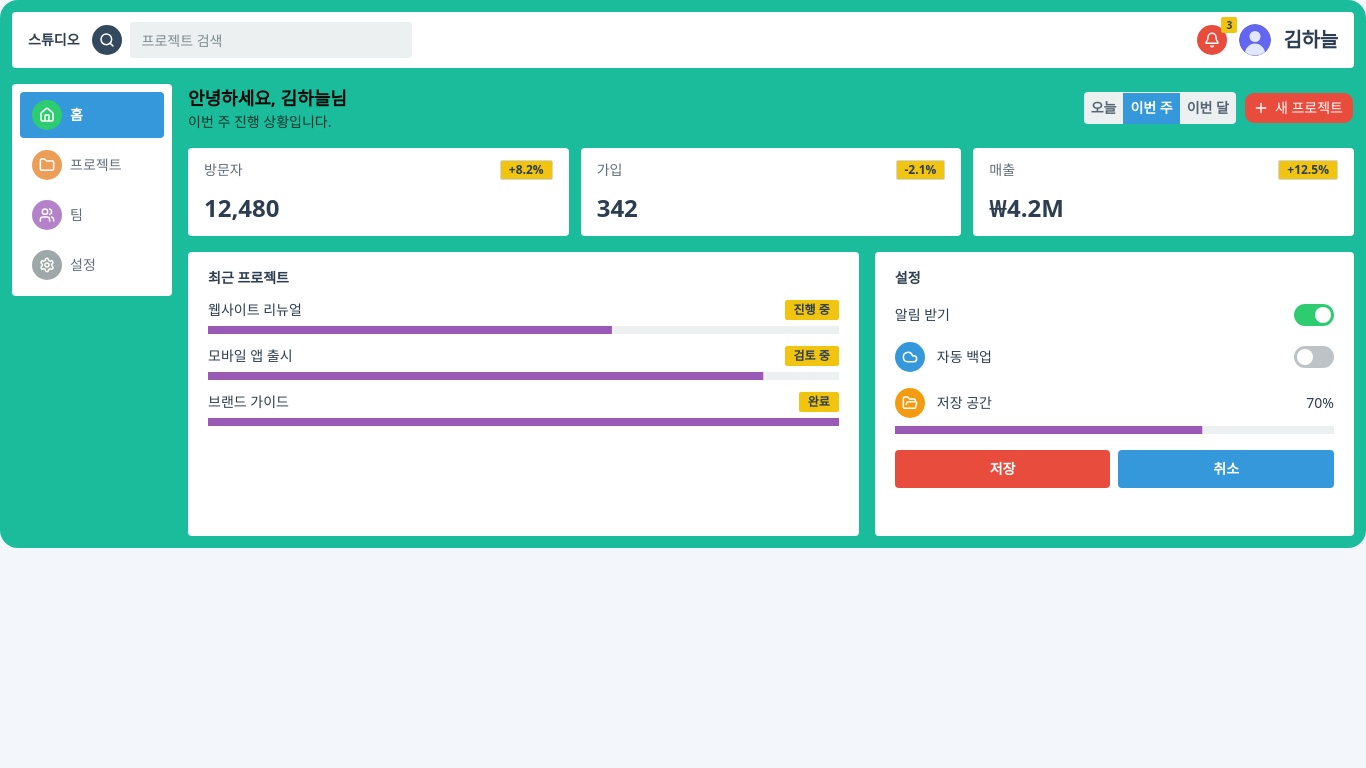
Test case: things to try on the dashboard (D-019) › adds a project from the new-project dialog
Click the button "새 프로젝트" at {"x": 1299, "y": 108}, box [1244,92,1354,124]
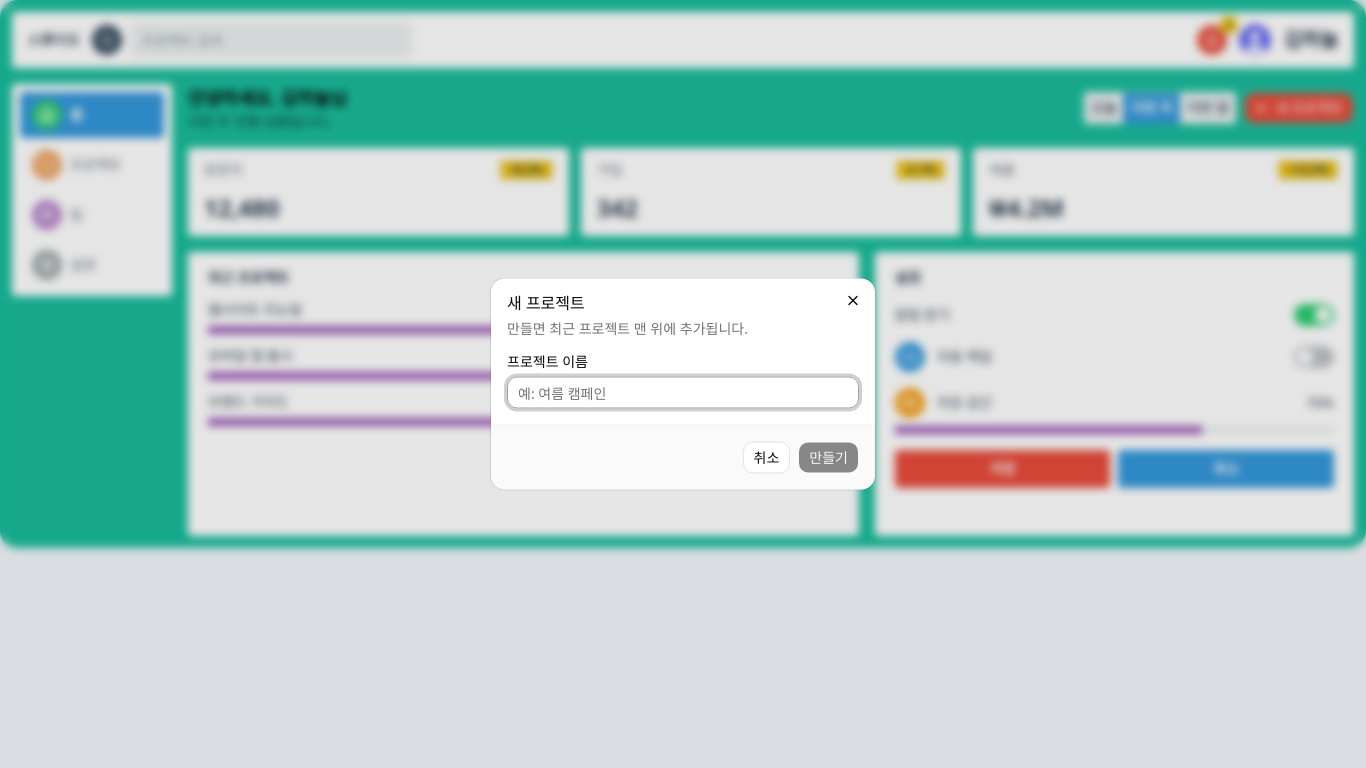
Type "여름 캠페인" into the field labelled "프로젝트 이름" at {"x": 683, "y": 392}, box [507,376,859,408]
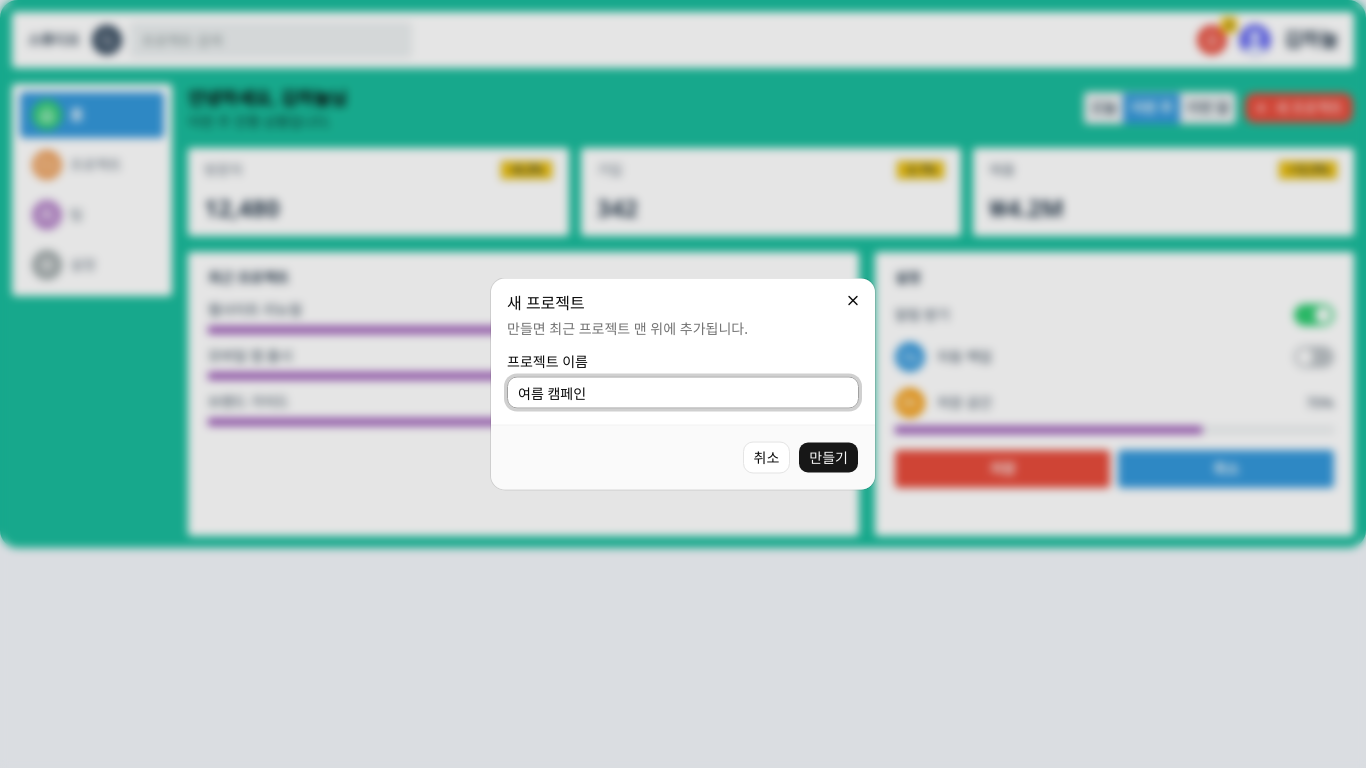
Click the button "만들기" at {"x": 829, "y": 458}, box [798,442,859,474]
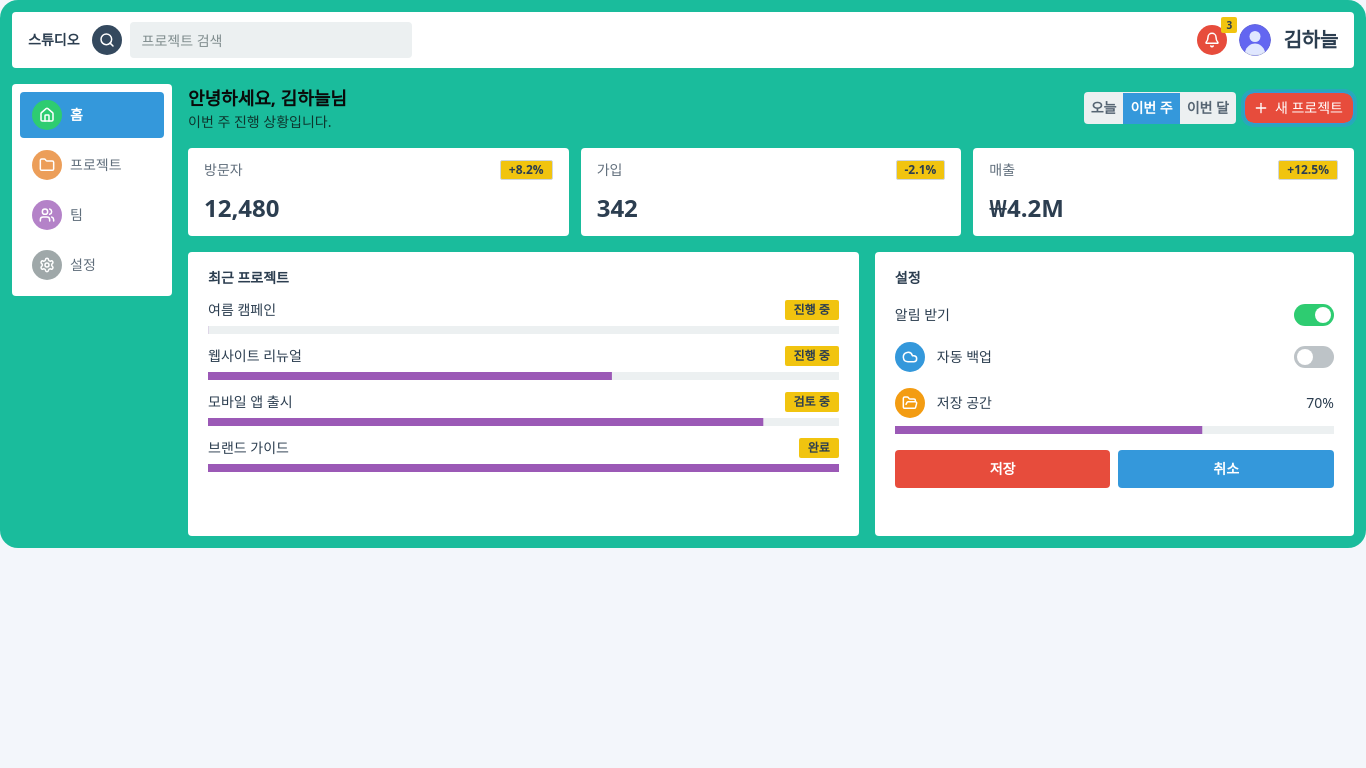
Expected: the list item with aria-label "여름 캠페인 프로젝트" is shown, [208,300,839,334]
